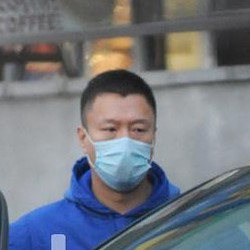mask: (76, 127, 154, 192)
